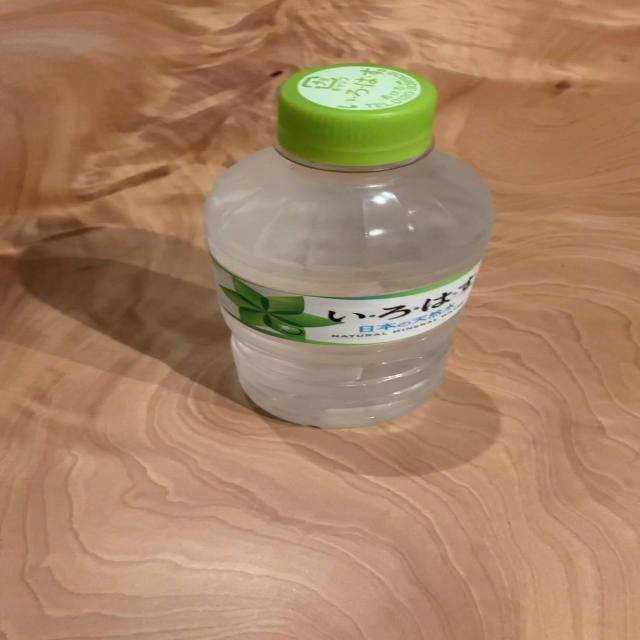chai: (205, 64, 494, 428)
